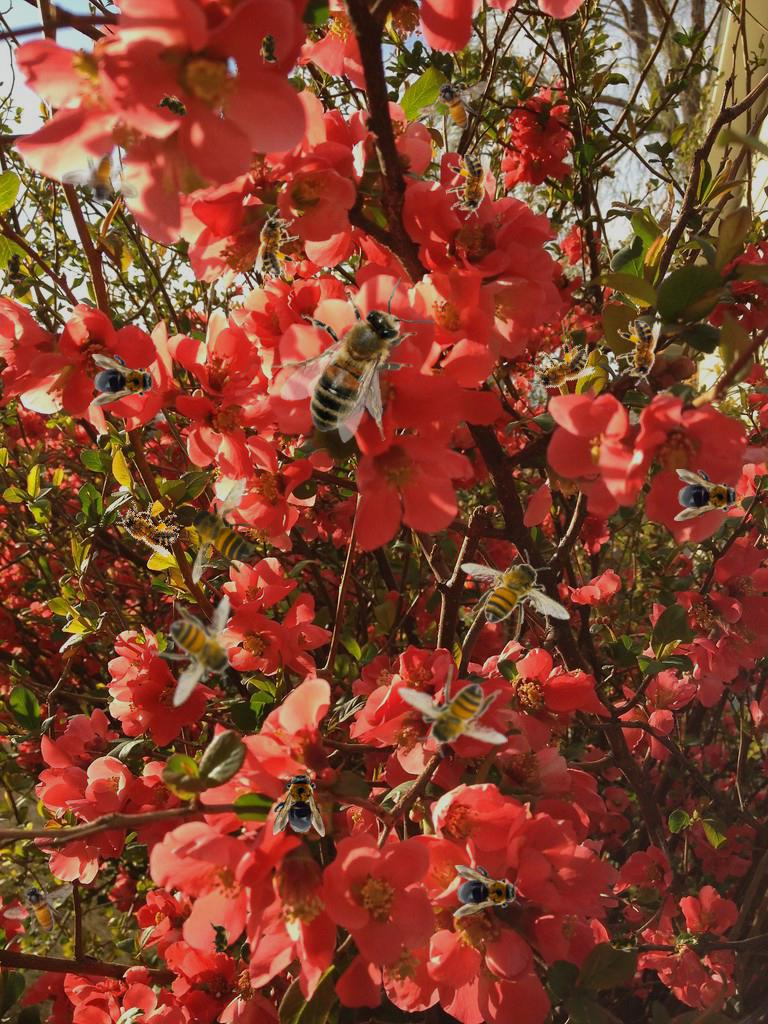Bee: (265, 275, 442, 447), (460, 549, 571, 643), (177, 475, 271, 586), (397, 664, 508, 758), (150, 596, 244, 707), (60, 139, 148, 222), (518, 332, 598, 405), (107, 492, 187, 559), (3, 883, 74, 933), (417, 80, 488, 130), (90, 354, 158, 406), (453, 865, 521, 917), (674, 469, 742, 521), (273, 769, 325, 837), (616, 320, 661, 386), (254, 209, 299, 275), (446, 154, 491, 220), (151, 87, 197, 127), (2, 246, 28, 288), (603, 931, 643, 953), (209, 919, 231, 959), (259, 28, 281, 68)
